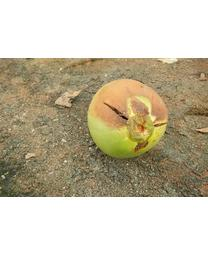coconut: (87, 78, 170, 161)
